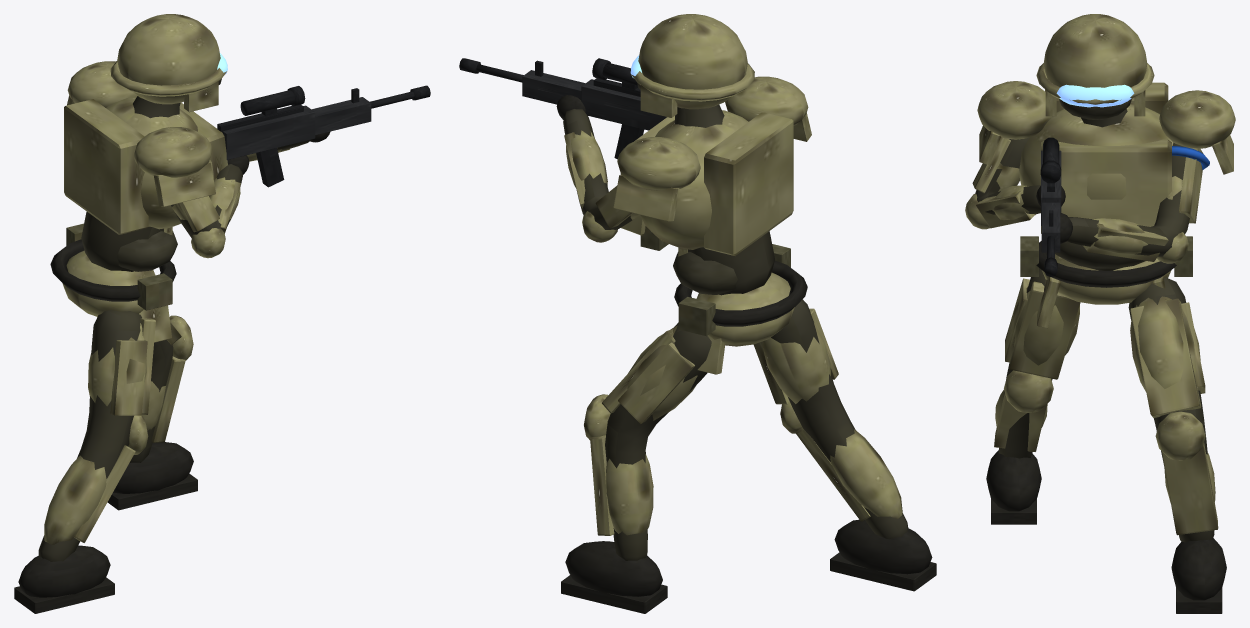
The model's file is unit_marine_1.glb.
3 views of the same model, side by side, from view 1: azimuth 30°, elevation 25°; view 2: azimuth 150°, elevation 25°; view 3: azimuth 270°, elevation 25° (orthographic). The views are drawn at different scales.
Parts seen in each view (by area): view 1: unit_marine_1; view 2: unit_marine_1; view 3: unit_marine_1.
Part boxes in pixels (<box>): unit_marine_1: <box>14,14,430,613</box>; unit_marine_1: <box>459,14,936,613</box>; unit_marine_1: <box>965,14,1235,613</box>.
Size of the model in its own units: 1.54 by 1.8 by 0.7879.
Materials: 8 (6 with a texture image).
